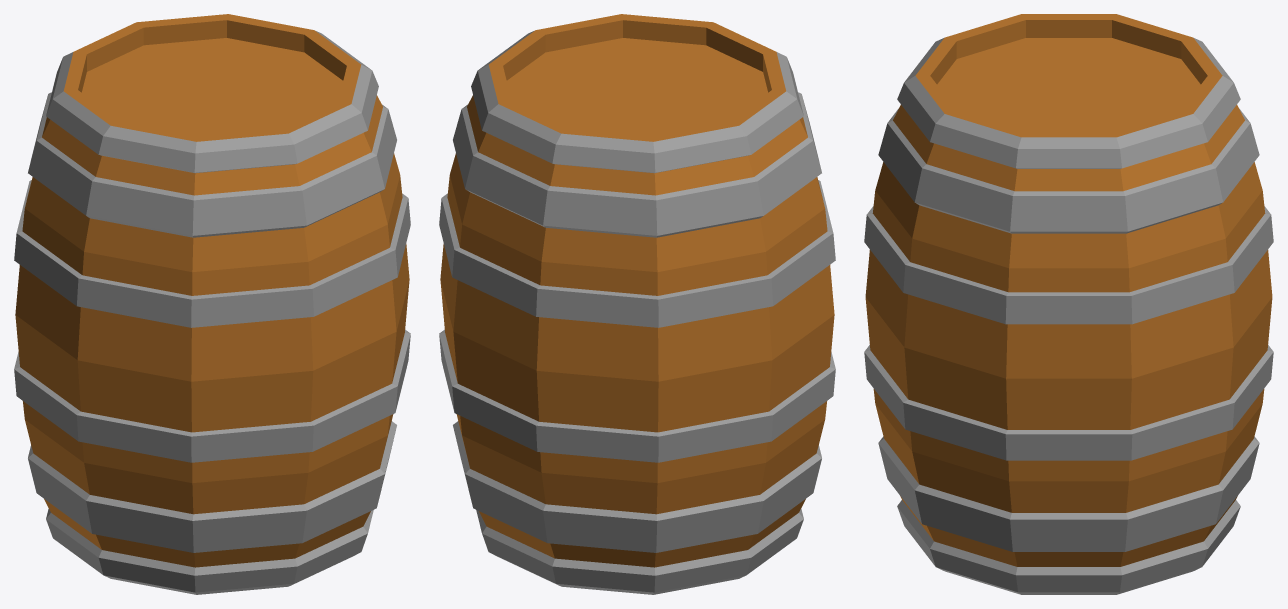
The model's file is Barrel.fbx.
3 renders of one model, left to right at view 1: azimuth 30°, elevation 25°; view 2: azimuth 150°, elevation 25°; view 3: azimuth 270°, elevation 25°, orthographic.
Visible parts, largest first — view 1: Barrel; view 2: Barrel; view 3: Barrel.
Part boxes in pixels (x1,y1,x2,y2): Barrel: (14,14,410,594); Barrel: (439,14,835,594); Barrel: (864,14,1273,594).
Size of the model in its own units: 240 by 311 by 253.
